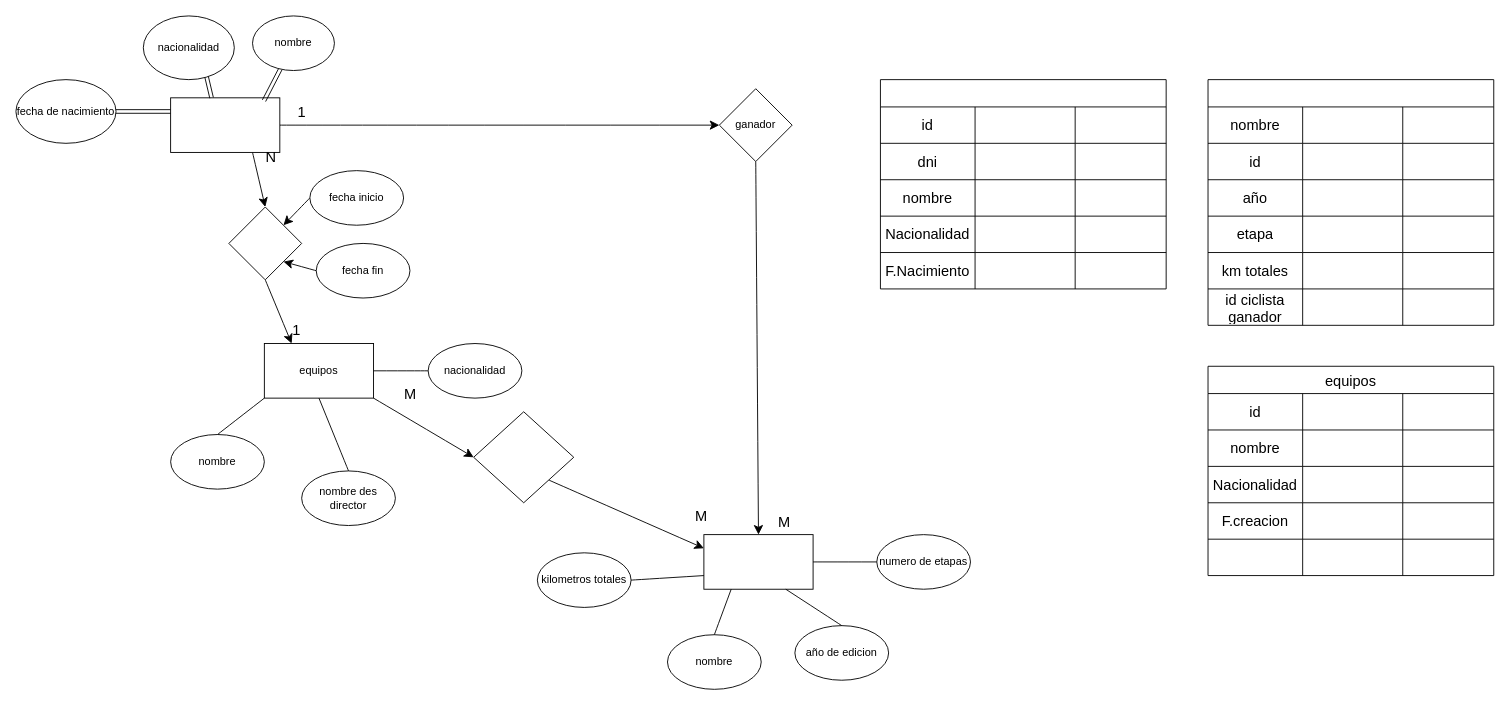
The diagram is 1510 pixels wide and 705 high, and some of its shapes have lost their labels. The shapes that lost their labels are listed below. From the top down, each one's box as (x1, y1, x2, y2) in pixels, then its label:
(170, 97, 280, 152): ciclistas
(880, 79, 1166, 289): ciclista
(1207, 79, 1494, 325): prueba
(228, 206, 302, 280): pertenece
(473, 411, 574, 503): puesto de cada prueba
(703, 534, 813, 589): pruebas
